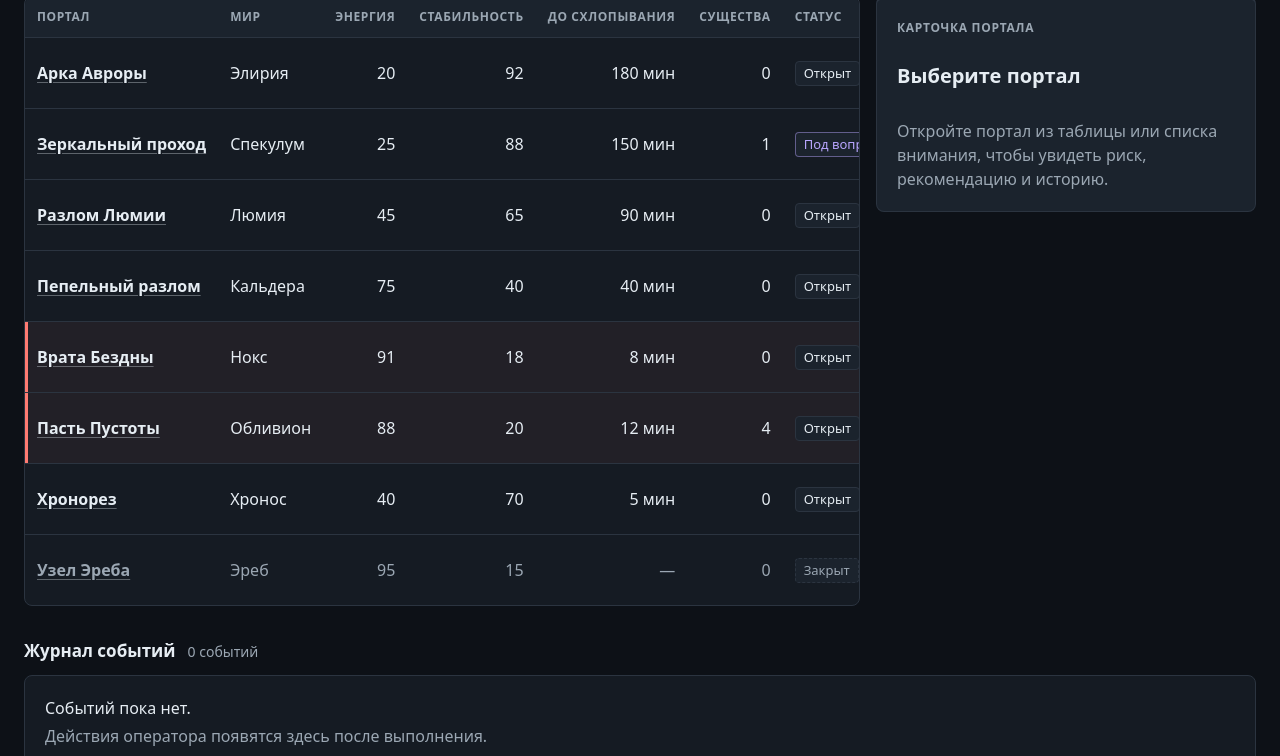
Действия над порталами › стабилизация критического портала обновляет параметры, риск, сводку и историю
(page scrolled)
Click the button "Врата Бездны".
click(95, 357)  # box [37,345,154,369]
(page scrolled)
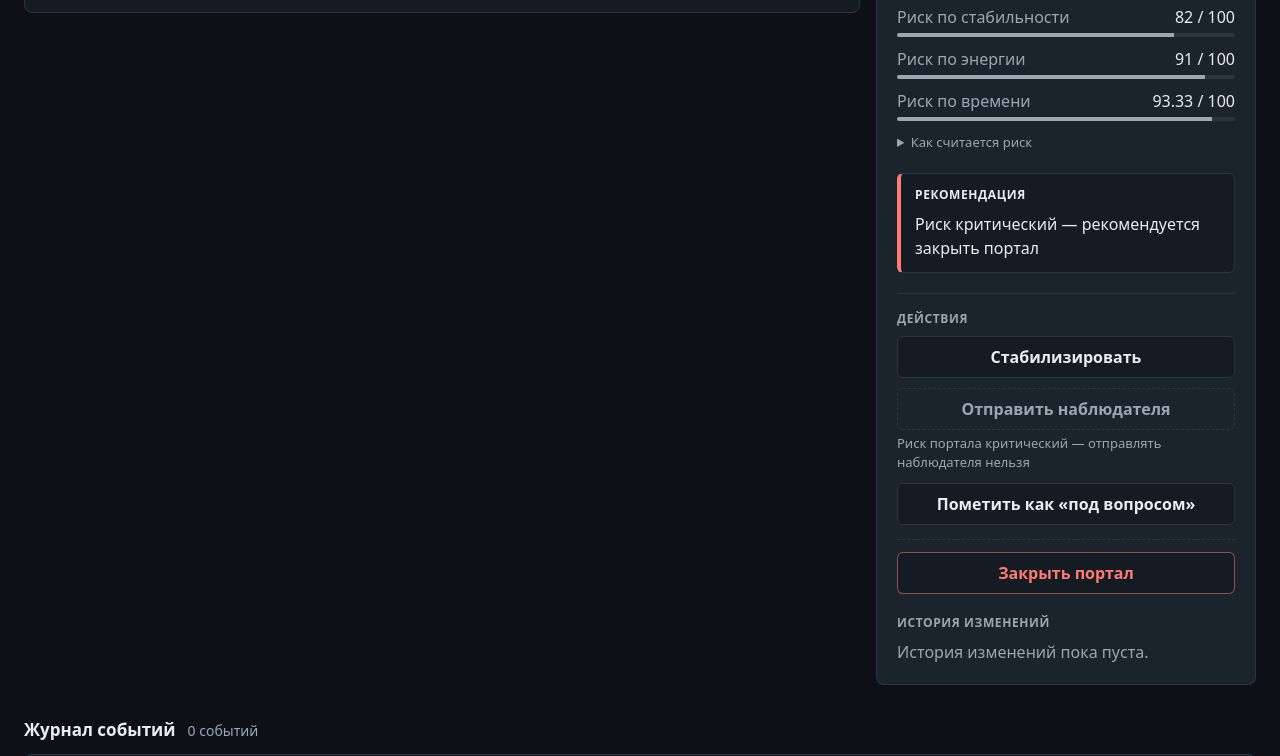
Result: the button "Отправить наблюдателя" is disabled at [897,388,1235,430]
Click the button "Стабилизировать".
click(1066, 357)  # box [897,336,1235,378]
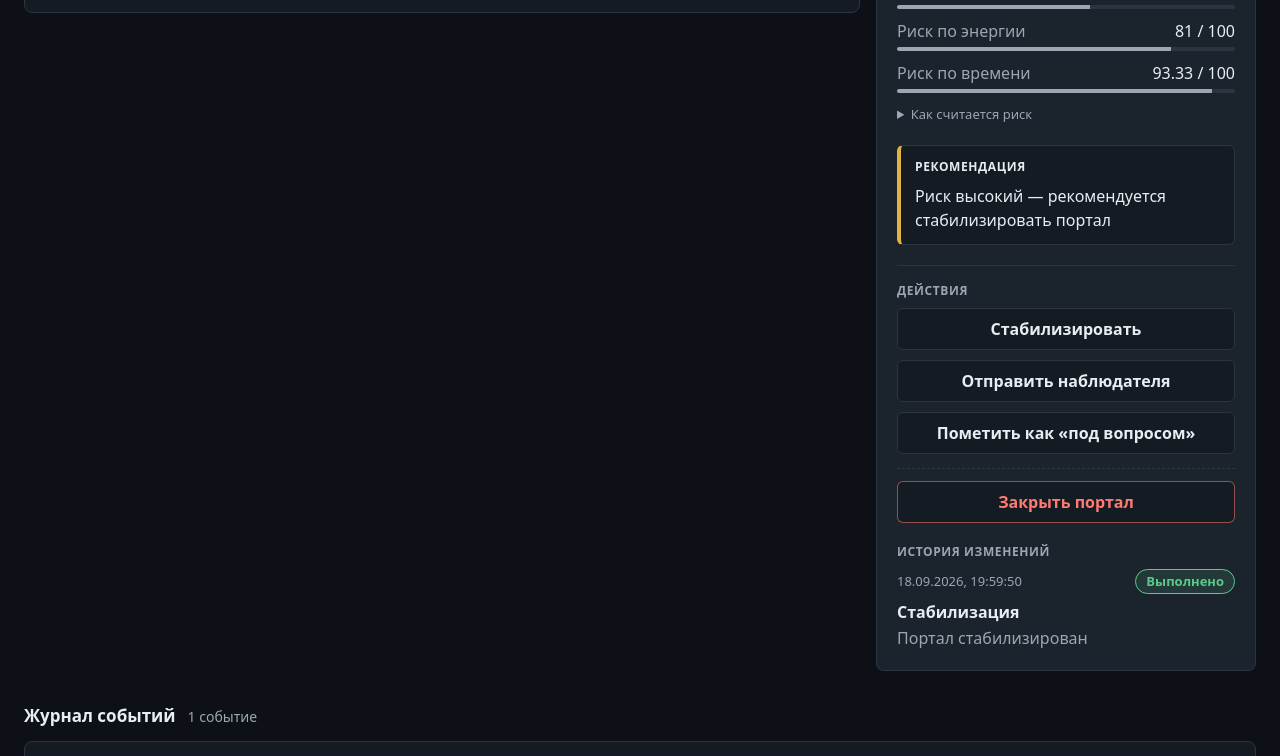
Result: the button "Отправить наблюдателя" is enabled at [897,360,1235,402]
Result: the text "Стабилизация" is shown at [897,601,1020,623]
Result: the text "Выполнено" below "История изменений" is shown at [1146,572,1224,590]
